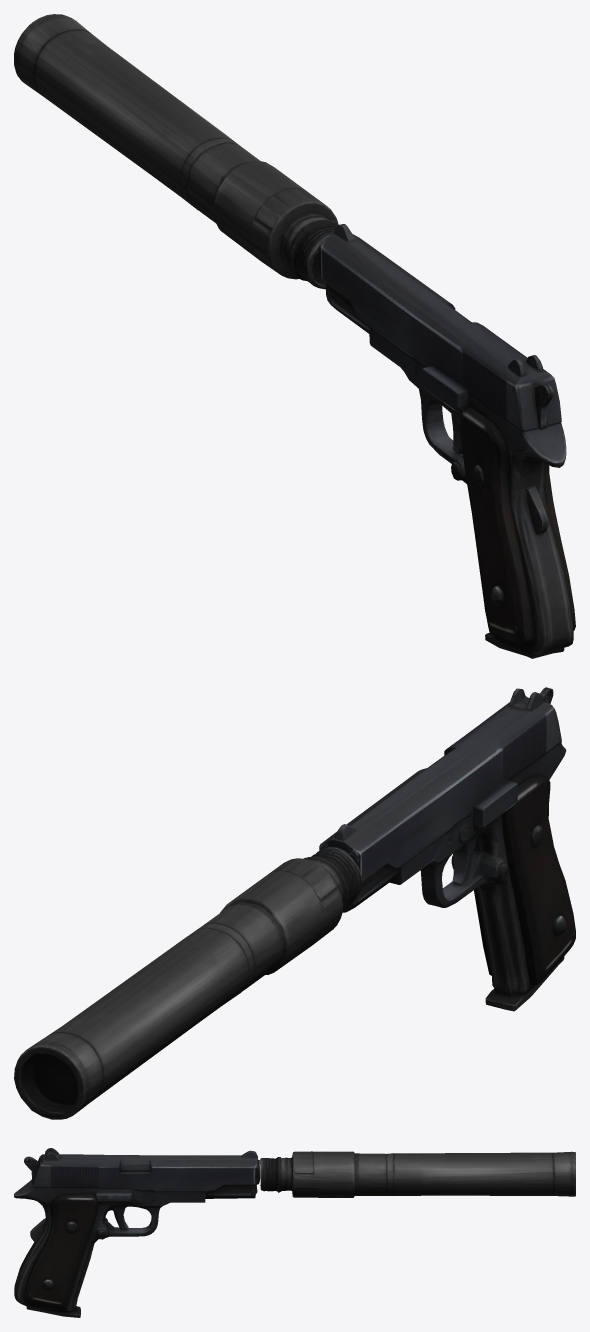
File: black_walther_suppressed.glb
The picture shows the model from 3 angles, top to bottom: view 1: azimuth 30°, elevation 25°; view 2: azimuth 150°, elevation 25°; view 3: azimuth 270°, elevation 25°; orthographic projection. The views are drawn at different scales.
Parts seen in each view (by area): view 1: black_walther_suppressed; view 2: black_walther_suppressed; view 3: black_walther_suppressed.
Part boxes in pixels (box(x1,y1,x2,y2)): black_walther_suppressed: box(14, 14, 575, 658); black_walther_suppressed: box(14, 687, 575, 1119); black_walther_suppressed: box(14, 1148, 575, 1317).
Bounding box in the file's own units: 0.0368 × 0.1402 × 0.4363.
2 materials, 2 textured.
